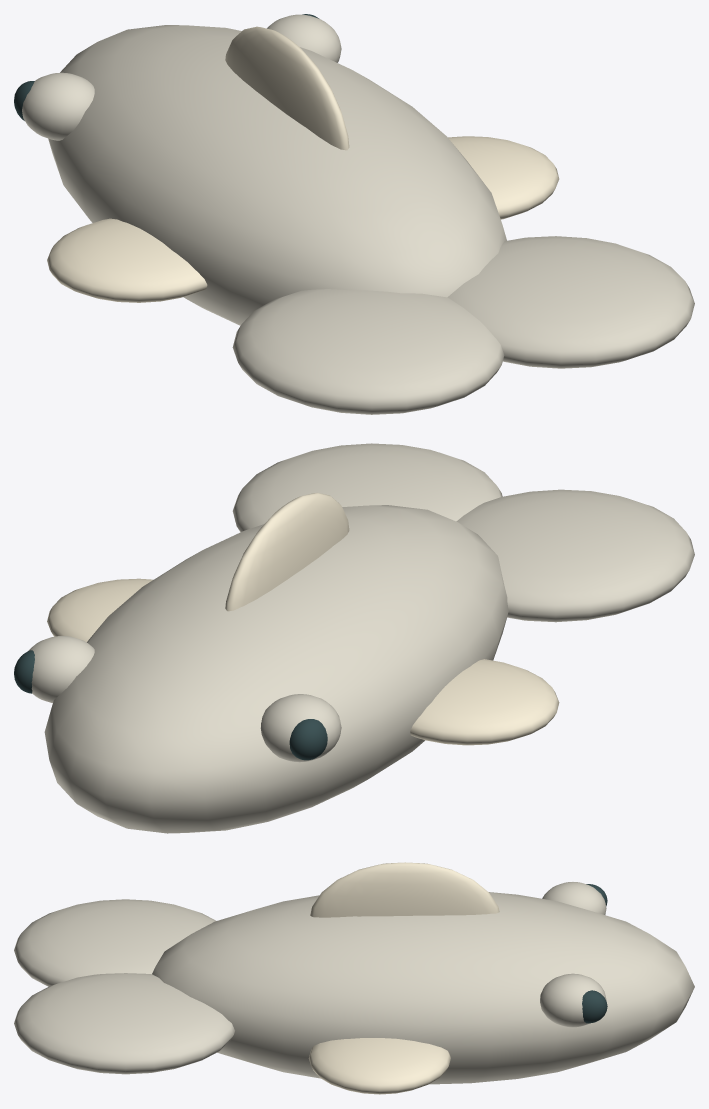
The model's file is Fish4.fbx.
The picture shows the model from 3 angles, top to bottom: view 1: azimuth 30°, elevation 25°; view 2: azimuth 150°, elevation 25°; view 3: azimuth 270°, elevation 25°; orthographic projection. The views are drawn at different scales.
Parts seen in each view (by area): view 1: Fish4; view 2: Fish4; view 3: Fish4.
Part boxes in pixels (box(x1,y1,x2,y2)): Fish4: box(14, 14, 694, 414); Fish4: box(14, 443, 694, 833); Fish4: box(14, 862, 694, 1094).
Bounding box in the file's own units: 44 × 22 × 67.
